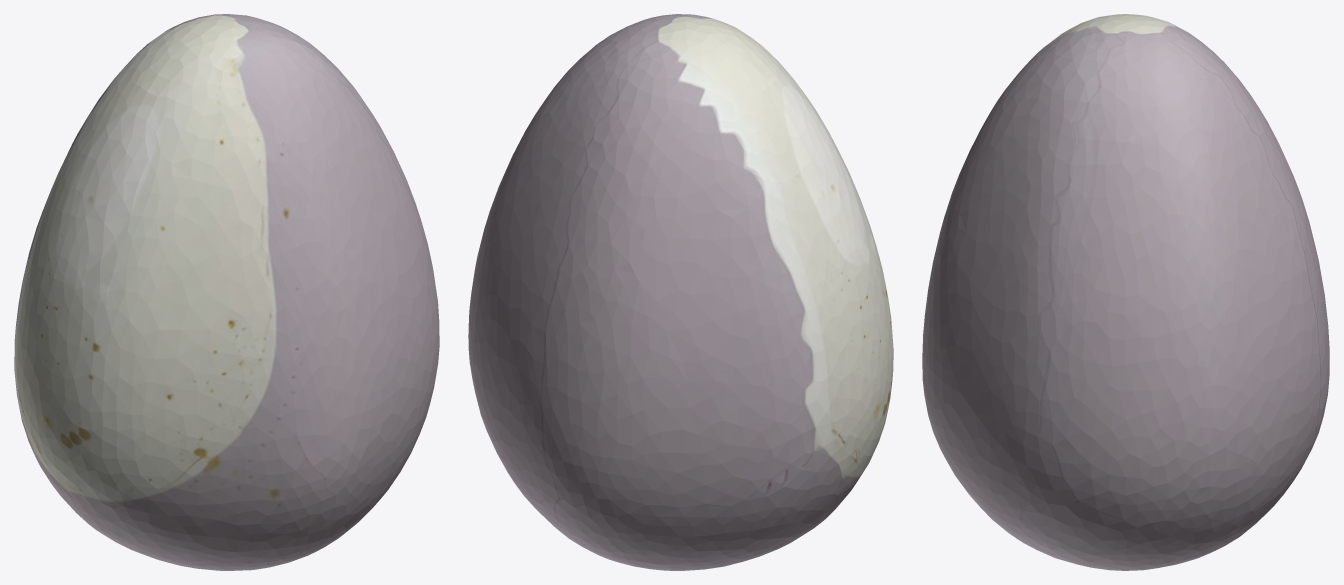
Rendered from egg.glb.
3 views of the same model, side by side, from view 1: azimuth 30°, elevation 25°; view 2: azimuth 150°, elevation 25°; view 3: azimuth 270°, elevation 25° (orthographic).
Parts seen in each view (by area): view 1: tmp_dp_nfwe.ply; view 2: tmp_dp_nfwe.ply; view 3: tmp_dp_nfwe.ply.
Boxes of the visible parts, bbox=[...] form: tmp_dp_nfwe.ply: bbox=[14, 14, 439, 570]; tmp_dp_nfwe.ply: bbox=[468, 14, 893, 570]; tmp_dp_nfwe.ply: bbox=[922, 14, 1329, 570].
Bounding box in the file's own units: 1.5 × 1.99 × 1.4.
Materials: 1 (1 with a texture image).
